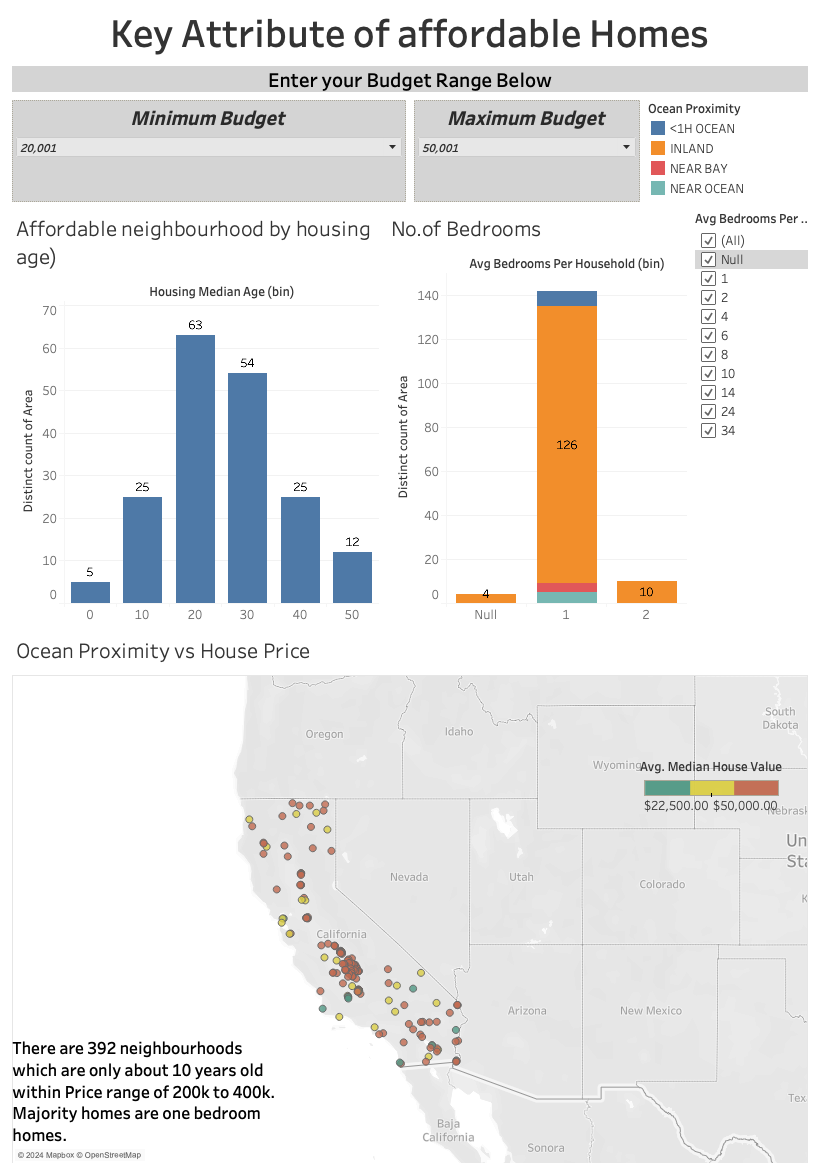

The page's visual inventory and layout, read from the dashboard file:
{"tool":"tableau","page":{"name":"Key Attribute of affordable Homes","canvas":[1000,1000],"units":"permille","ordinal":2},"visuals":[{"type":"title","box":[9.8,7.1,980.5,52.2]},{"type":"text","box":[9.8,59.2,980.5,30.1]},{"type":"parameter","param":"[Parameters].[Parameter 1]","box":[9.8,89.3,490.2,97.3]},{"type":"parameter","param":"[Parameters].[Enter your Budget (copy)_5461177540087558150]","box":[500,89.3,490.2,97.3]},{"type":"worksheet","title":"Affordable neighborhood by housing age)","mark":"Automatic","rows":["Calculation_5461177539739037699"],"cols":["Housing Median Age (bin)"],"box":[9.8,186.6,457.3,373.1]},{"type":"worksheet","title":"No.of Bedrooms","mark":"Bar","rows":["Calculation_5461177539739037699"],"cols":["Avg Bedrooms Per Household (bin)"],"box":[467.1,186.6,375.6,373.1]},{"type":"filter","title":"No.of Bedrooms","param":"[federated.0e5wdql09sb56g10pghwm11j47eq].[none:Avg Bedrooms Per Household (bin):","box":[842.6,186.6,147.6,373.1]},{"type":"legend","title":"No.of Bedrooms","param":"[federated.0e5wdql09sb56g10pghwm11j47eq].[none:ocean_proximity:nk]","box":[824.4,388.7,170.7,92.5]},{"type":"worksheet","title":"Ocean Proximity vs House Price","mark":"Multipolygon","rows":["latitude"],"cols":["longitude"],"box":[9.8,559.7,980.5,433.3]},{"type":"legend","title":"Ocean Proximity vs House Price","param":"[federated.0e5wdql09sb56g10pghwm11j47eq].[avg:median_house_value:qk]","box":[780.5,646.2,174.4,79.2]},{"type":"text","box":[12.2,872.6,342.7,111.3]}]}

Visuals, with their boxes on the dashboard's canvas, which has no fixed pixel size, in thousandths of its width and height (x1, y1, x2, y2). These are canvas units, not pixel positions in the 815x1163 screenshot, which may show the page scaled, cropped or inside an application window:
title: (10,7,990,59)
text: (10,59,990,89)
parameter: (10,89,500,187)
parameter: (500,89,990,187)
"Affordable neighborhood by housing age)" worksheet: (10,187,467,560)
"No.of Bedrooms" worksheet (Bar marks): (467,187,843,560)
"No.of Bedrooms" filter: (843,187,990,560)
"No.of Bedrooms" legend: (824,389,995,481)
"Ocean Proximity vs House Price" worksheet (Multipolygon marks): (10,560,990,993)
"Ocean Proximity vs House Price" legend: (780,646,955,725)
text: (12,873,355,984)
